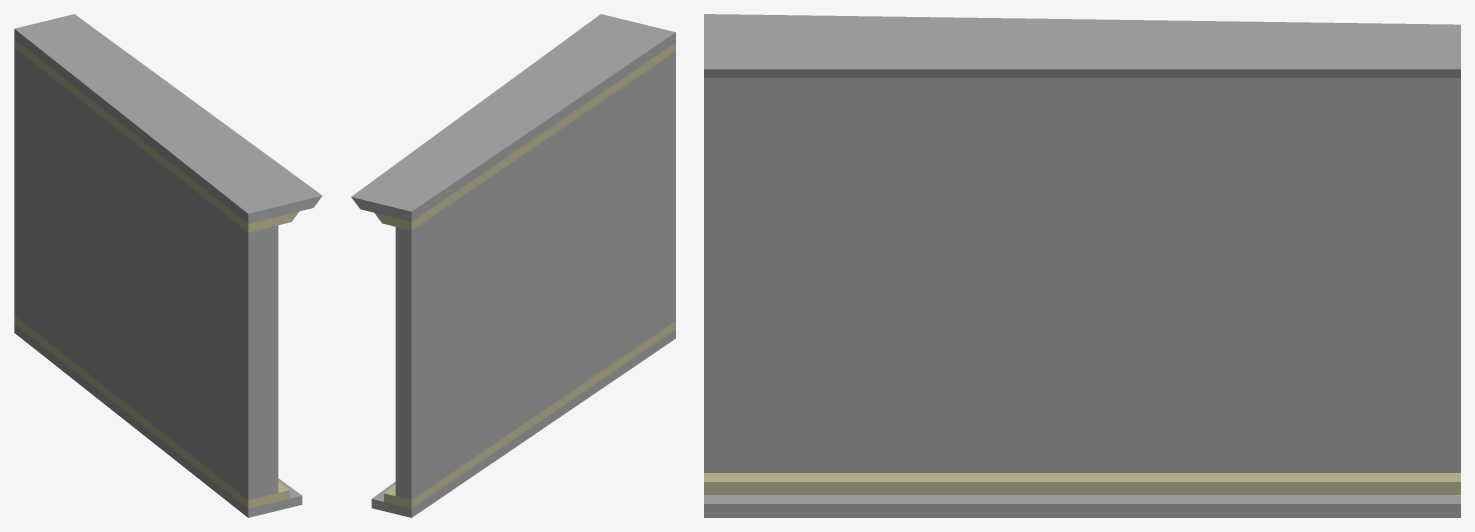
File: Wall_outline_bottom.fbx
3 views of the same model, side by side, from view 1: azimuth 30°, elevation 25°; view 2: azimuth 150°, elevation 25°; view 3: azimuth 270°, elevation 25° (orthographic). The views are drawn at different scales.
Visible parts, largest first — view 1: pCube1; view 2: pCube1; view 3: pCube1.
Boxes of the visible parts, x1,y1,x2,y2 form: pCube1: (14, 14, 322, 517); pCube1: (351, 14, 675, 517); pCube1: (704, 14, 1460, 517).
Bounding box in the file's own units: 2.51 × 9.79 × 14.47.
